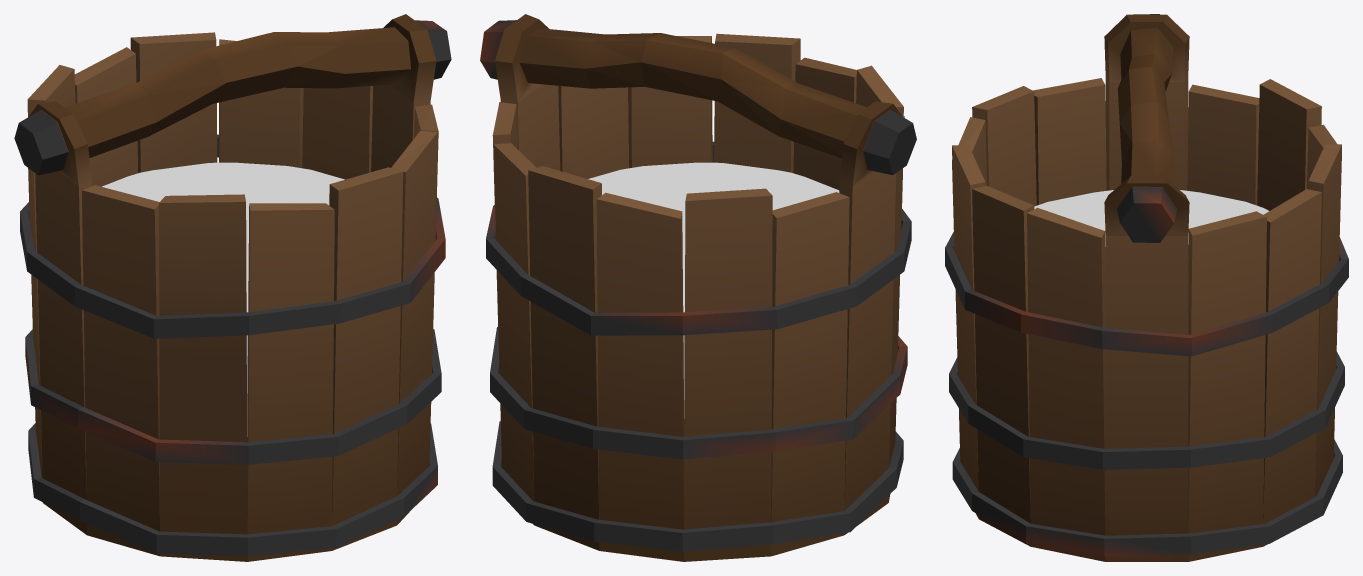
The model's file is Bucket.fbx.
3 views of the same model, side by side, from view 1: azimuth 30°, elevation 25°; view 2: azimuth 150°, elevation 25°; view 3: azimuth 270°, elevation 25° (orthographic). The views are drawn at different scales.
Parts seen in each view (by area): view 1: Circle, Cylinder; view 2: Circle, Cylinder; view 3: Circle, Cylinder.
Part boxes in pixels (bbox=[...]): Circle: bbox=[14, 14, 451, 561]; Cylinder: bbox=[102, 162, 344, 436]; Circle: bbox=[480, 14, 916, 561]; Cylinder: bbox=[588, 162, 839, 418]; Circle: bbox=[945, 14, 1348, 561]; Cylinder: bbox=[1034, 190, 1268, 246].
Bounding box in the file's own units: 241 × 240 × 216.
